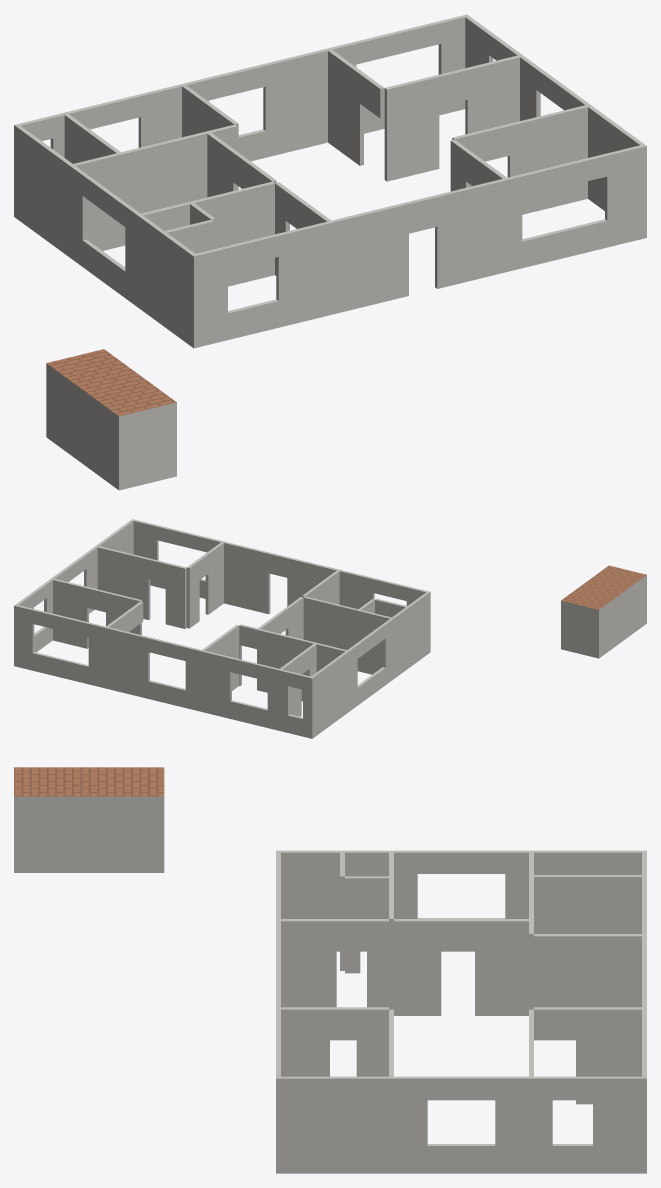
File: Casa Enso.gltf
3 renders of one model, top to bottom at view 1: azimuth 30°, elevation 25°; view 2: azimuth 150°, elevation 25°; view 3: azimuth 270°, elevation 25°, orthographic. The views are drawn at different scales.
Parts seen in each view (by area): view 1: solido_63, solido_4, solido_6, solido_38, solido_26, solido_23, solido_19, solido_37, solido_41, solido_34, solido_9, solido_43 (+28 smaller); view 2: solido_63, solido_19, solido_34, solido_6, solido_16, solido_23, solido_26, solido_37, solido_4, solido_38, solido_43, solido_13 (+31 smaller); view 3: solido_63, solido_27, solido_58, solido_23, solido_30, solido_49, solido_26, solido_44, solido_33, solido_54, solido_47, solido_57 (+18 smaller).
Part boxes in pixels (x1,y1,x2,y2): solido_63: (46, 349, 176, 490); solido_4: (276, 202, 408, 327); solido_6: (435, 174, 522, 288); solido_38: (73, 131, 209, 250); solido_26: (16, 125, 86, 266); solido_23: (125, 205, 195, 346); solido_19: (263, 42, 356, 157); solido_37: (507, 105, 587, 214); solido_41: (384, 75, 439, 181); solido_34: (141, 181, 274, 286); solido_9: (605, 144, 646, 247); solido_43: (465, 55, 519, 134); solido_63: (561, 565, 646, 658); solido_19: (88, 622, 149, 698); solido_34: (303, 596, 391, 674); solido_6: (212, 539, 270, 614); solido_16: (185, 646, 231, 718); solido_23: (382, 592, 428, 684); solido_26: (311, 645, 357, 737); solido_37: (97, 546, 150, 620); solido_4: (287, 557, 374, 609); solido_38: (257, 628, 346, 701); solido_43: (53, 579, 88, 648); solido_13: (267, 666, 289, 732); solido_63: (14, 767, 164, 872); solido_27: (281, 1076, 427, 1173); solido_58: (534, 934, 641, 1007); solido_23: (281, 850, 417, 918); solido_30: (495, 1076, 552, 1173); solido_49: (475, 919, 528, 1015); solido_26: (505, 850, 641, 933); solido_44: (281, 919, 336, 1007); solido_33: (593, 1076, 641, 1173); solido_54: (576, 1007, 641, 1104); solido_47: (394, 919, 441, 1015); solido_57: (581, 875, 641, 933).
Bounding box in the file's own units: 23.12 × 3.1 × 18.76.
2 materials, 1 textured.
